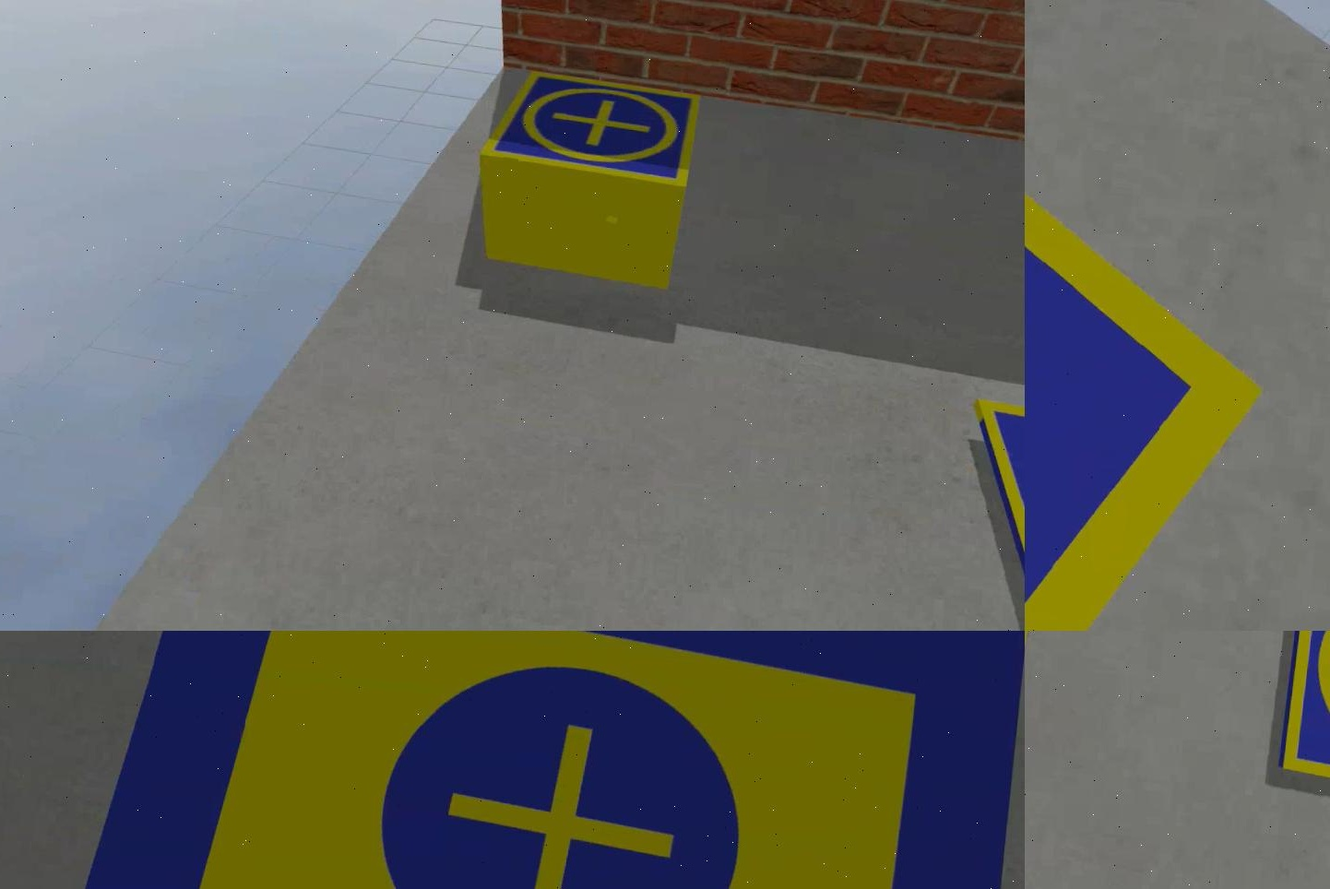large_base: (28, 631, 1023, 889)
small_base: (1023, 1, 1296, 631), (476, 68, 702, 195), (954, 398, 1023, 631)
